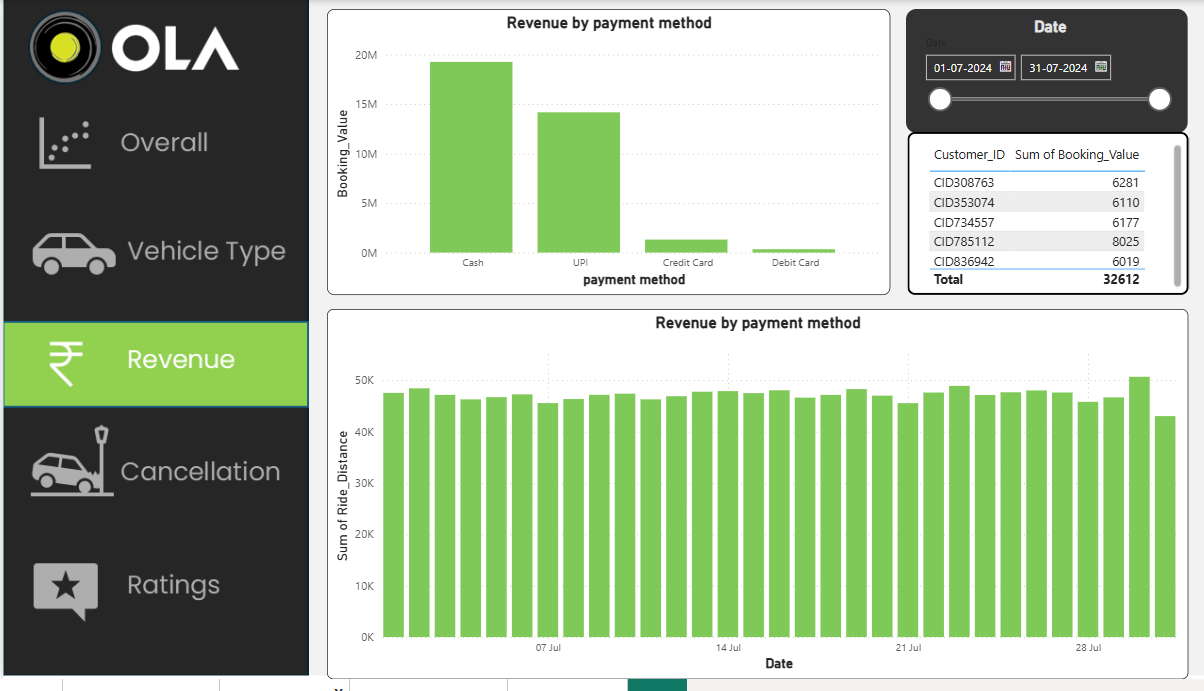

Layout of this report page (visuals, bound fields, positions):
{"tool":"powerbi","page":{"name":"Revenue","canvas":[1280,720],"ordinal":2},"visuals":[{"type":"actionButton","box":[0,219.5,324.5,93.8],"z":0},{"type":"actionButton","box":[0,337.2,324.5,93.8],"z":1000},{"type":"actionButton","box":[0,445.4,324.5,97],"z":2000},{"type":"actionButton","box":[0,575.8,324.5,90.7],"z":3000},{"type":"actionButton","box":[0,106.6,324.5,93.8],"z":4000},{"type":"columnChart","title":"Revenue by payment method","fields":{"Y":["Sum(July.Booking_Value)"],"Category":["July.Payment_Method"]},"box":[343.7,9.2,597.4,303.3],"z":5000},{"type":"columnChart","title":"Revenue by payment method","fields":{"Y":["Sum(July.Ride_Distance)"],"Category":["July.Date"]},"box":[343.7,327.2,913,392.9],"z":6000},{"type":"slicer","title":"Date","fields":{"Values":["July.Date"]},"box":[958.1,9.4,298.4,131.1],"z":7000},{"type":"tableEx","fields":{"Values":["July.Customer_ID","Sum(July.Booking_Value)"]},"box":[959.5,139.7,297.8,172.8],"z":8000}]}

Visuals, with their boxes in screenshot pixels (x1, y1, x2, y2), scaled from the page's 1280x720 canvas onto the 1204x691 screenshot:
actionButton: 0/211/305/301
actionButton: 0/324/305/414
actionButton: 0/427/305/521
actionButton: 0/553/305/640
actionButton: 0/102/305/192
"Revenue by payment method" columnChart: 323/9/885/300
"Revenue by payment method" columnChart: 323/314/1182/690
"Date" slicer: 901/9/1182/135
tableEx - July.Customer_ID x Sum(July.Booking_Value): 903/134/1183/300
